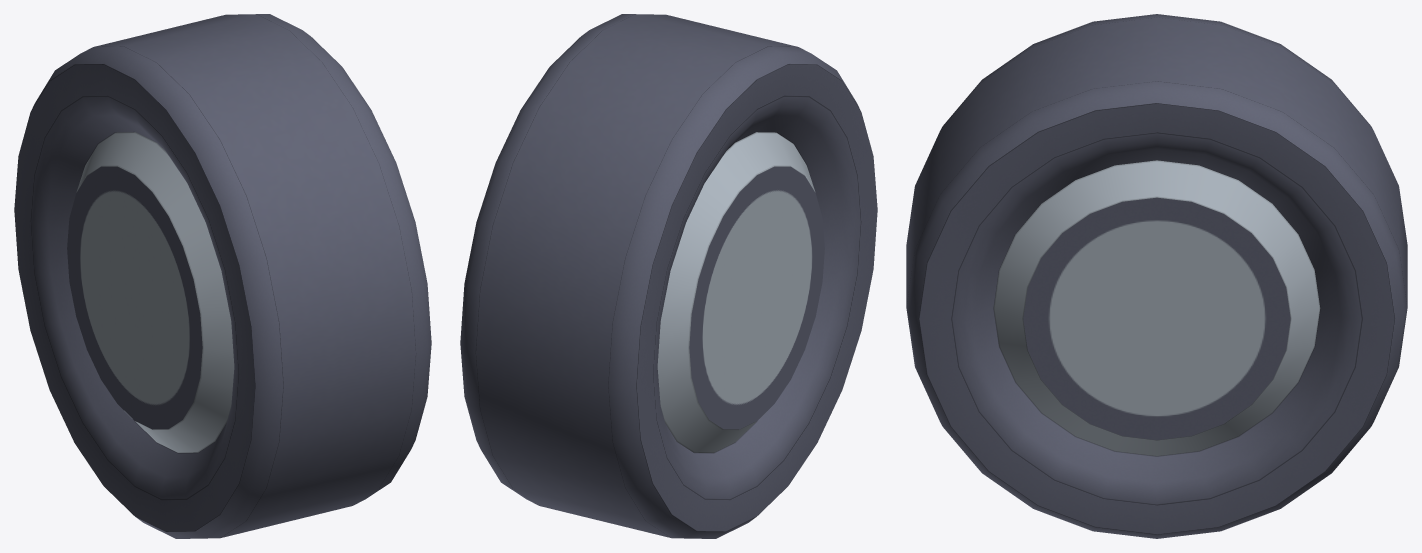
File: Wheel_Big_05.FBX
3 views of the same model, side by side, from view 1: azimuth 30°, elevation 25°; view 2: azimuth 150°, elevation 25°; view 3: azimuth 270°, elevation 25° (orthographic).
Parts seen in each view (by area): view 1: Wheel_Big_05; view 2: Wheel_Big_05; view 3: Wheel_Big_05.
Boxes of the visible parts, x1,y1,x2,y2 form: Wheel_Big_05: [14, 14, 431, 538]; Wheel_Big_05: [460, 14, 877, 538]; Wheel_Big_05: [906, 14, 1407, 538].
Bounding box in the file's own units: 2 × 4.99 × 4.99.
